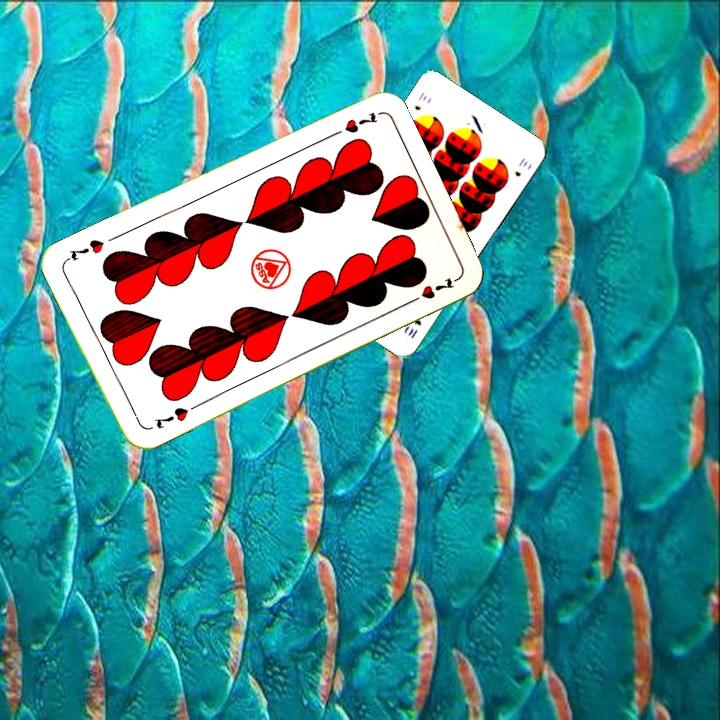H7: (326, 108, 382, 140), (149, 401, 200, 432)
S10: (404, 315, 424, 341), (410, 88, 430, 113)
